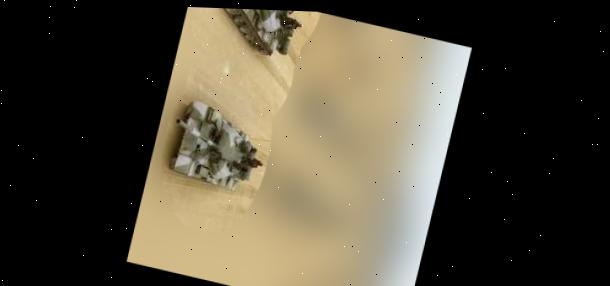tank: (158, 94, 274, 195), (212, 8, 307, 61)
